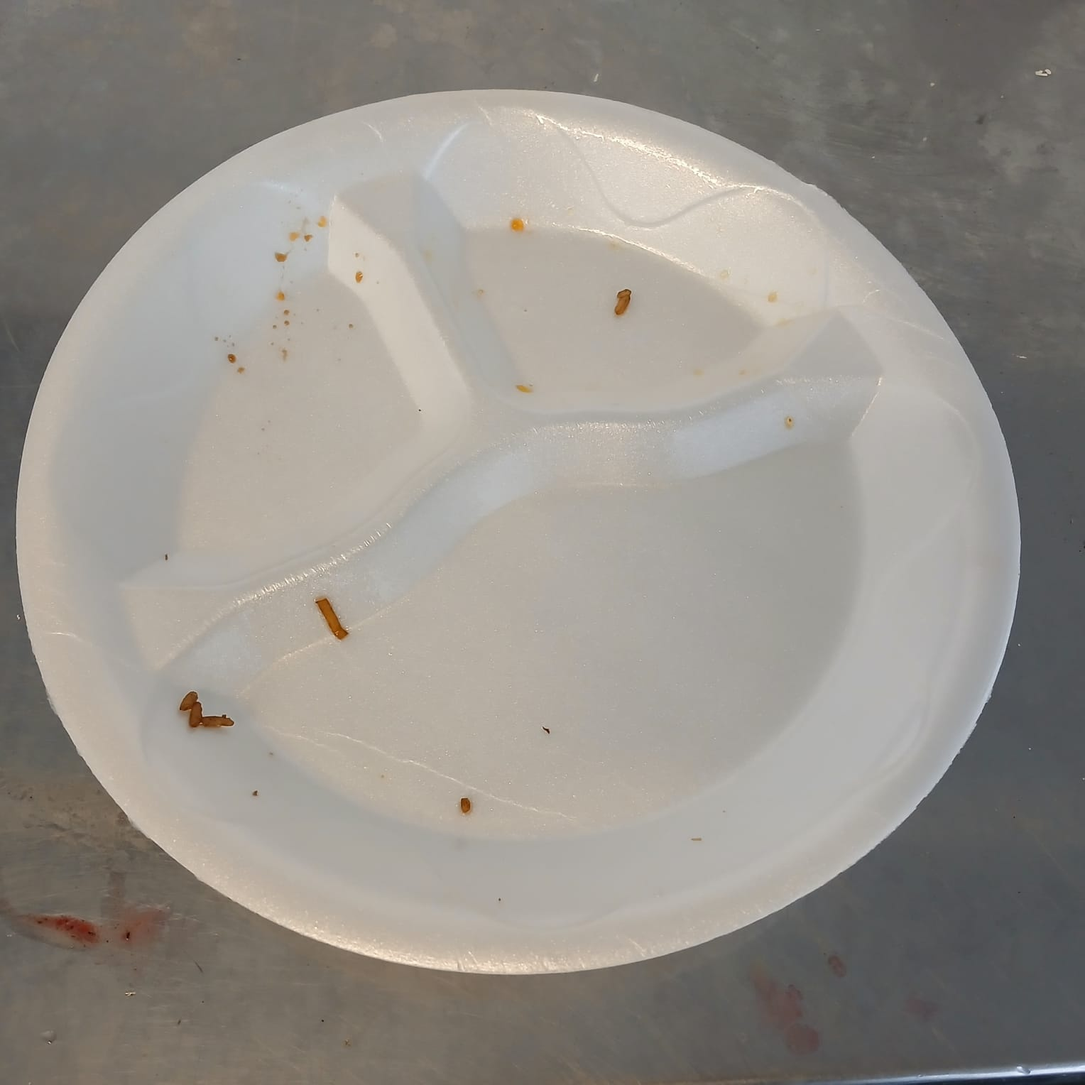Ordinario: (12, 86, 1023, 981)
